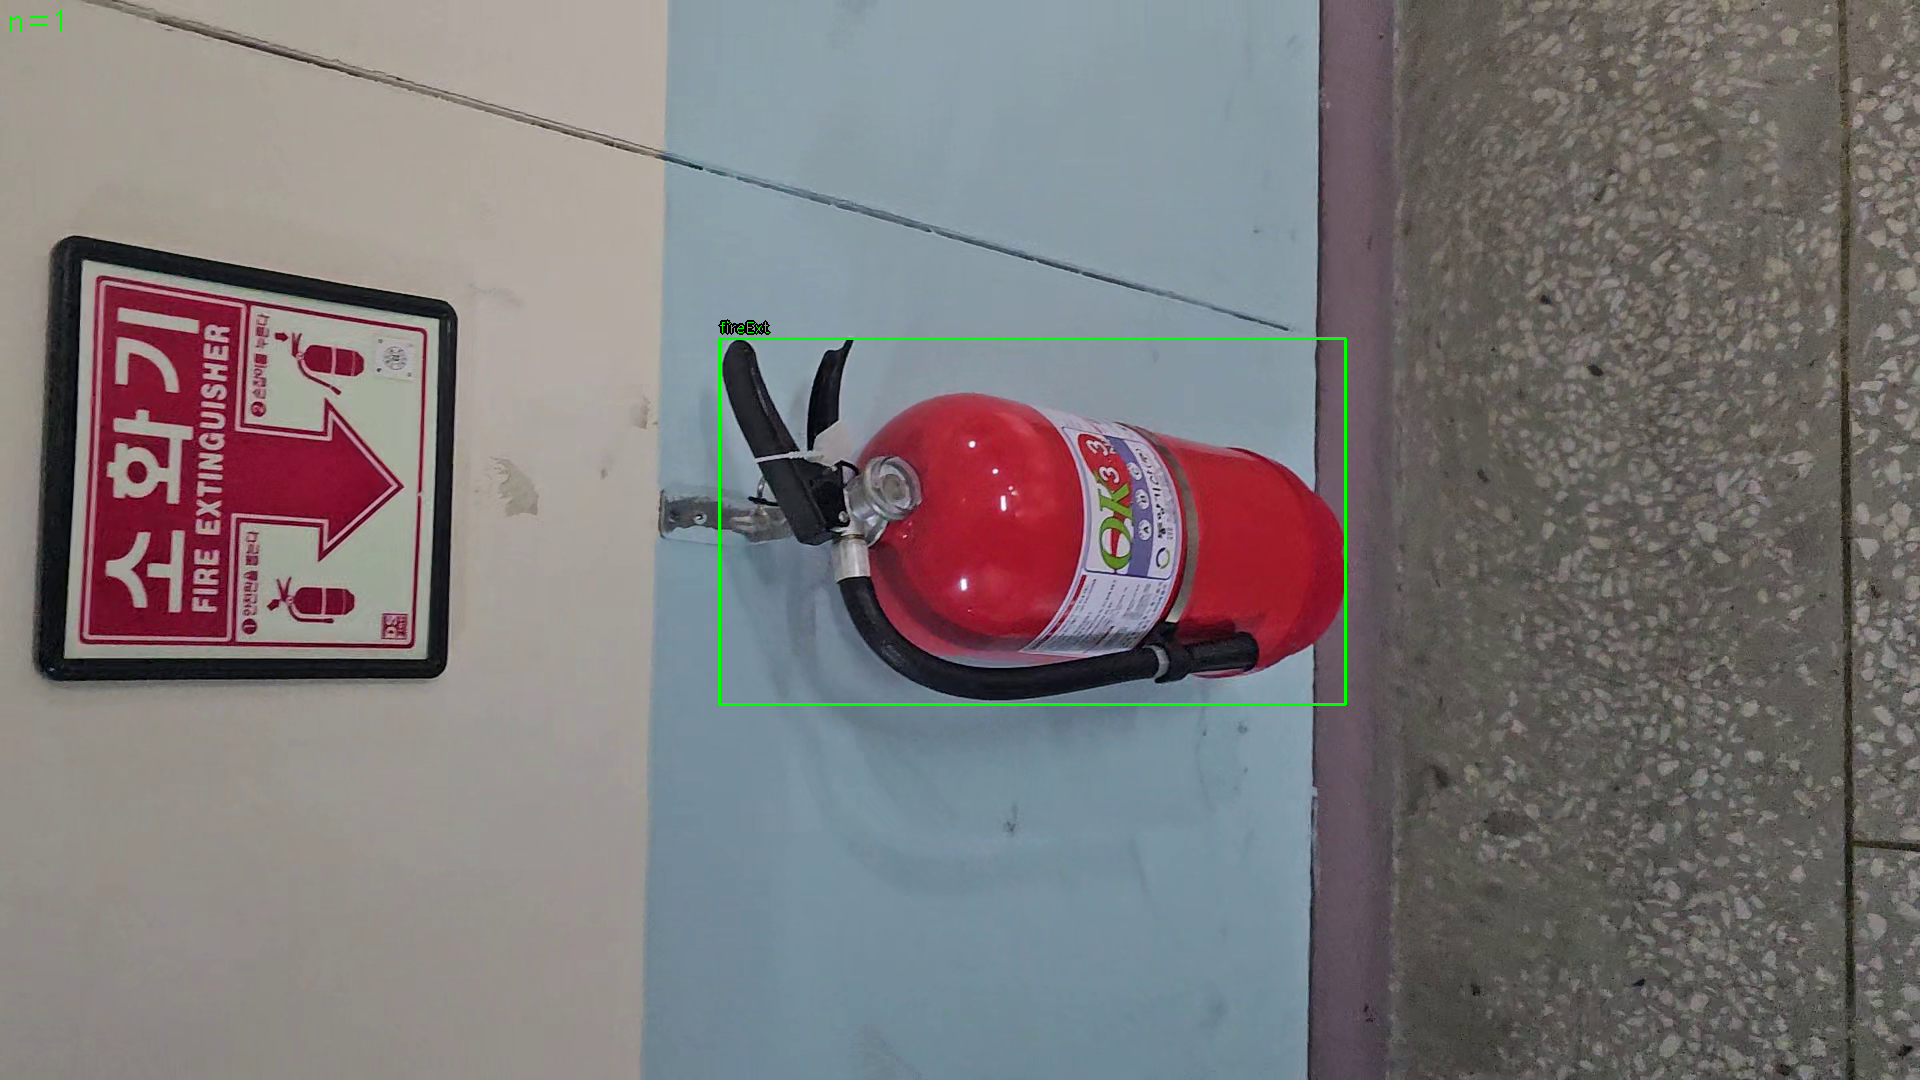lane: (719, 338, 1346, 705)
